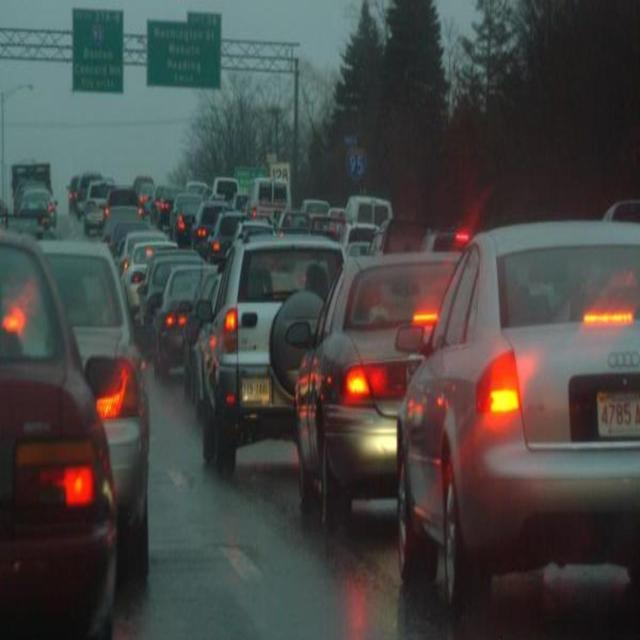car: (402, 212, 640, 630), (290, 244, 466, 526), (28, 228, 150, 590), (2, 229, 110, 633), (190, 229, 342, 482), (150, 264, 212, 382), (100, 184, 142, 224), (247, 177, 289, 214), (211, 210, 241, 254), (125, 241, 142, 309), (172, 199, 194, 240), (195, 200, 224, 230), (152, 184, 168, 216)
